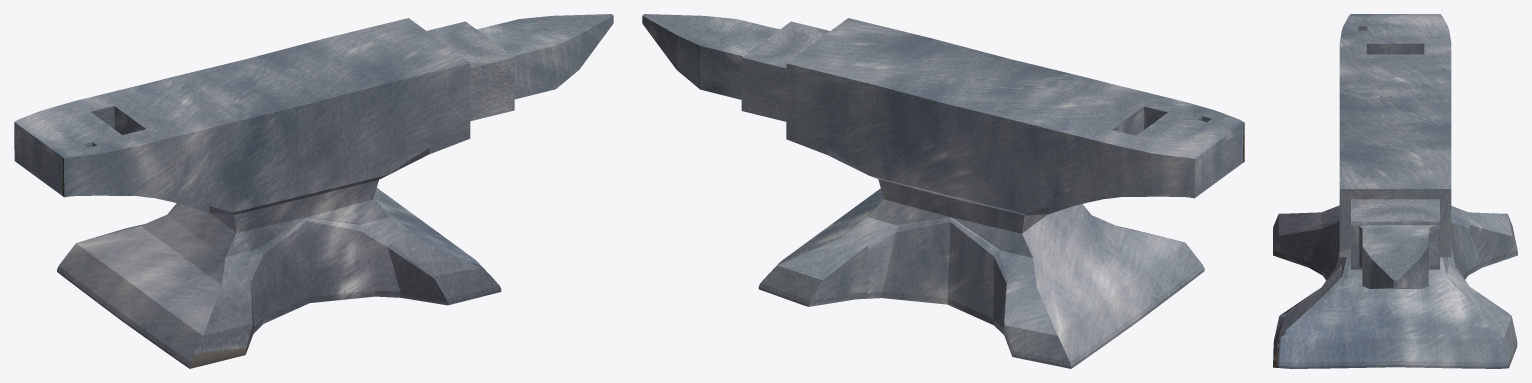
File: Anvil.fbx
3 renders of one model, left to right at view 1: azimuth 30°, elevation 25°; view 2: azimuth 150°, elevation 25°; view 3: azimuth 270°, elevation 25°, orthographic. The views are drawn at different scales.
Visible parts, largest first — view 1: Plane.001; view 2: Plane.001; view 3: Plane.001.
Boxes of the visible parts, x1,y1,x2,y2 form: Plane.001: [14, 14, 613, 368]; Plane.001: [642, 14, 1244, 368]; Plane.001: [1273, 14, 1517, 368].
Bounding box in the file's own units: 552 × 187 × 226.
